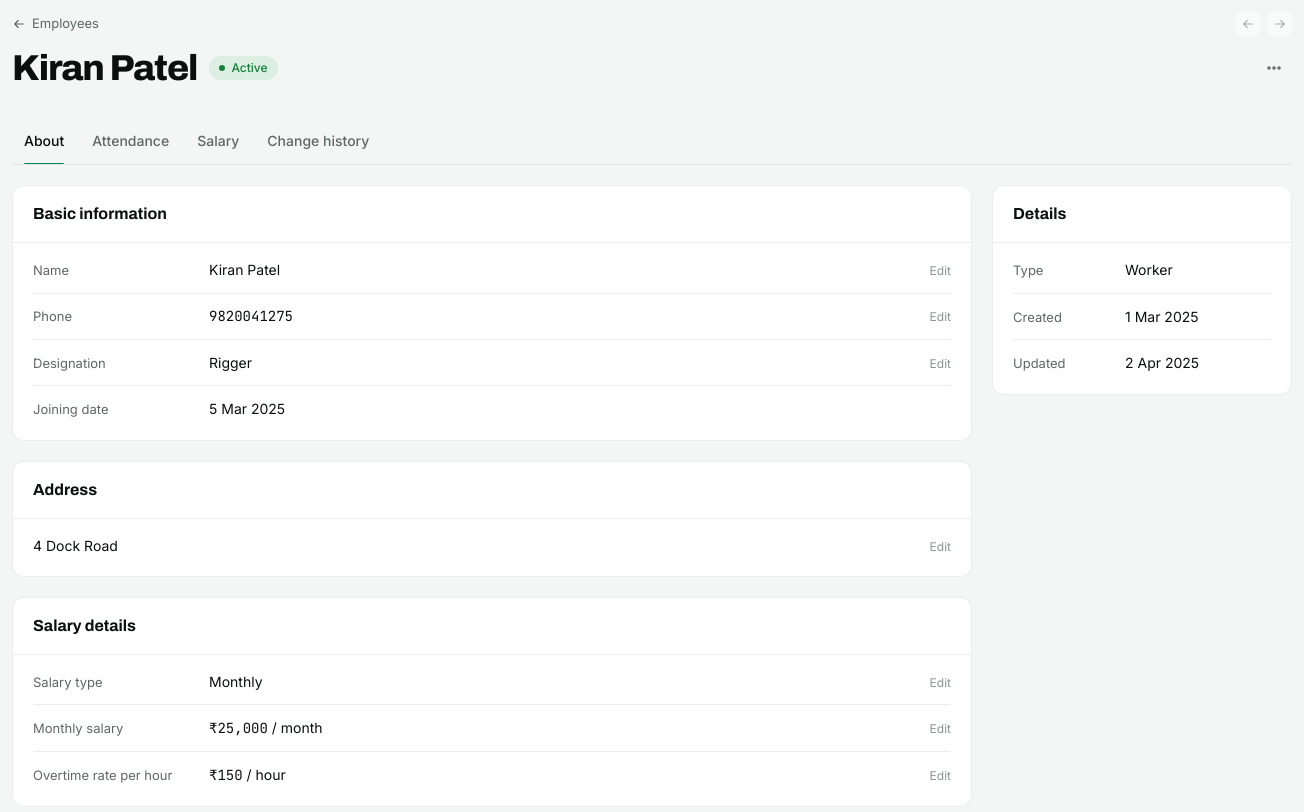
Test case: EmployeeDetailPage › cancels an edit with Escape
Step 1. Click the button "Rigger Edit" → (231,362), box [209, 354, 951, 370]
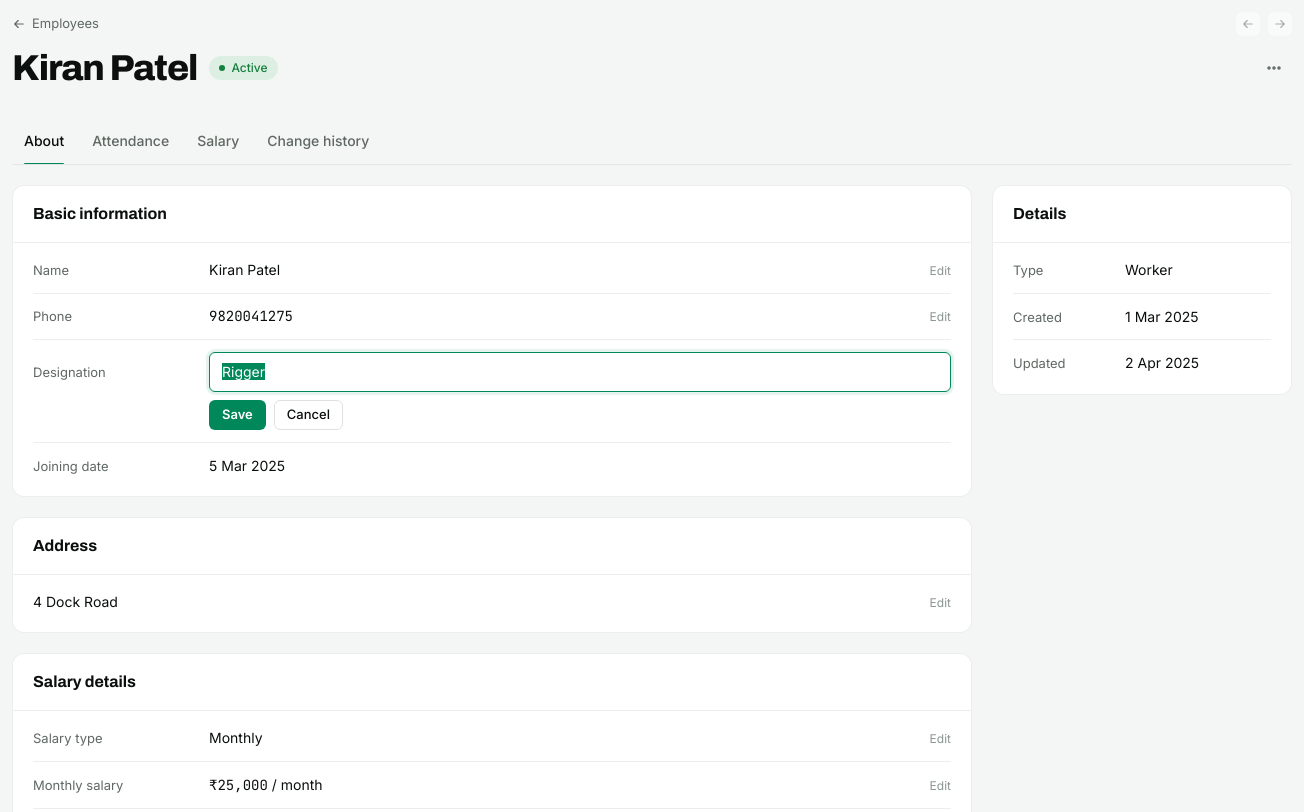
Step 2. Type "x" into the field named "Designation" → (580,372), box [209, 352, 951, 392]
Then press Escape
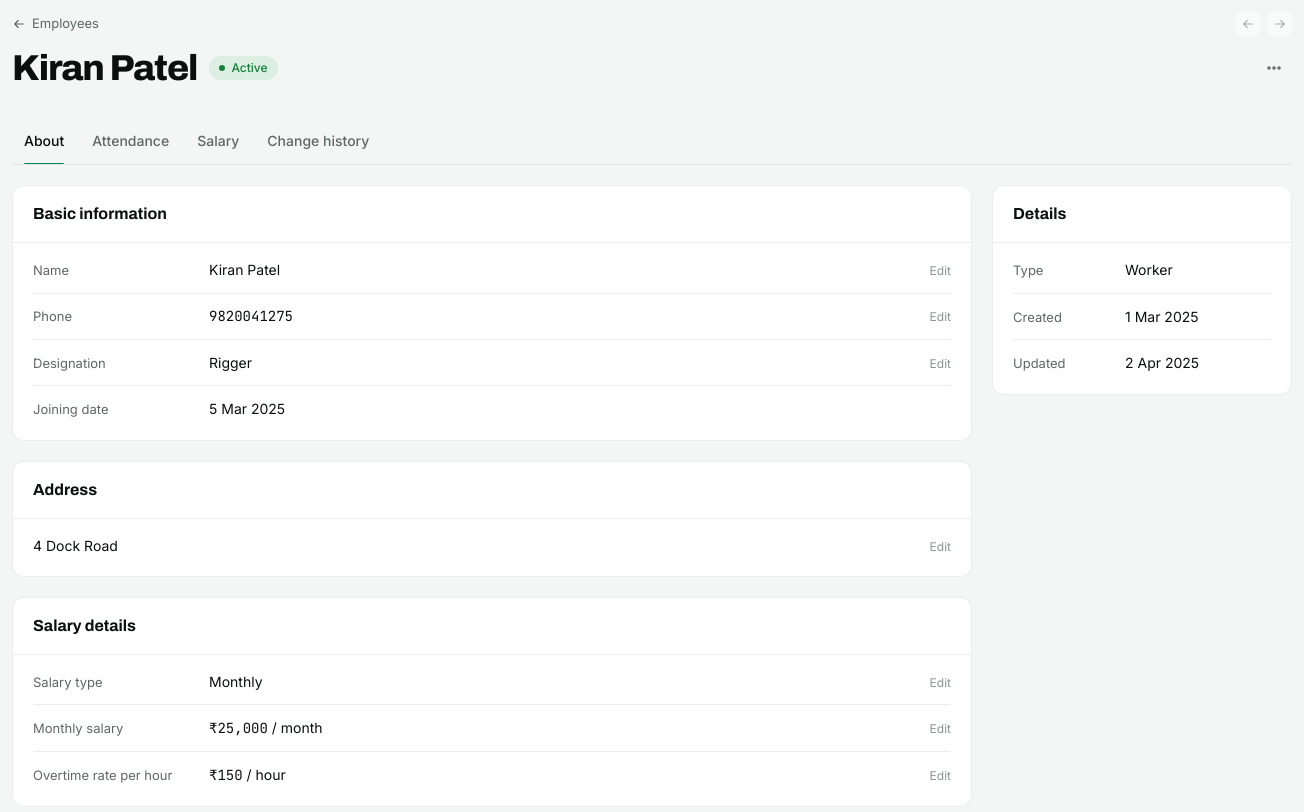
Result: the button "Rigger Edit" is shown at [209, 354, 951, 370]
